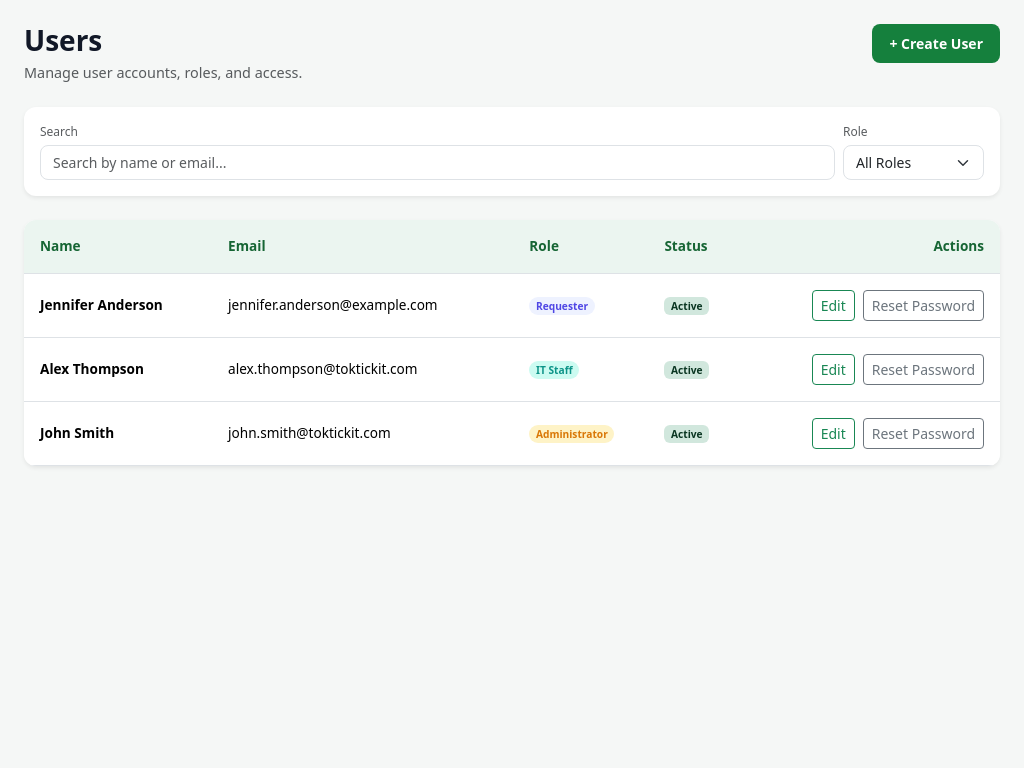
Test case: UserManagement UI Tests (Lab 3 - Issue 6) › Create User flow submits the form and surfaces a duplicate-email error
Click the button "+ Create User". click: (936, 44)
box: [872, 24, 1000, 63]
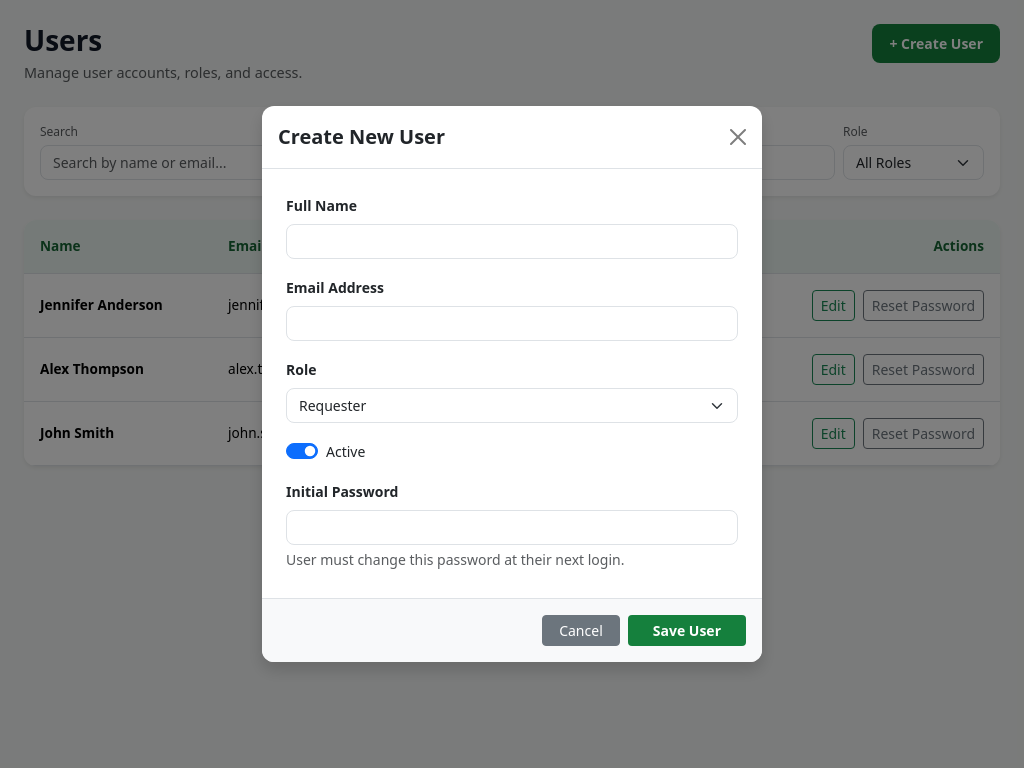
Type "New Person" into the field labelled "Full Name". click: (512, 242)
box: [286, 224, 738, 259]
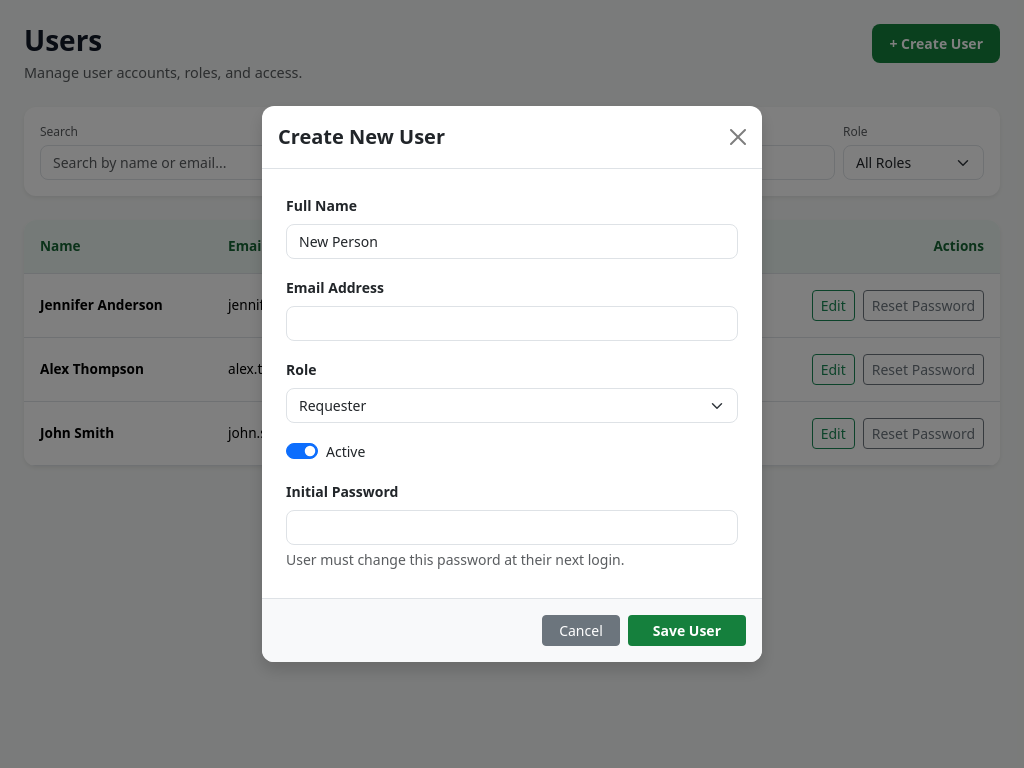
Type "alex.thompson@toktickit.com" into the field labelled "Email Address". click: (512, 324)
box: [286, 306, 738, 341]
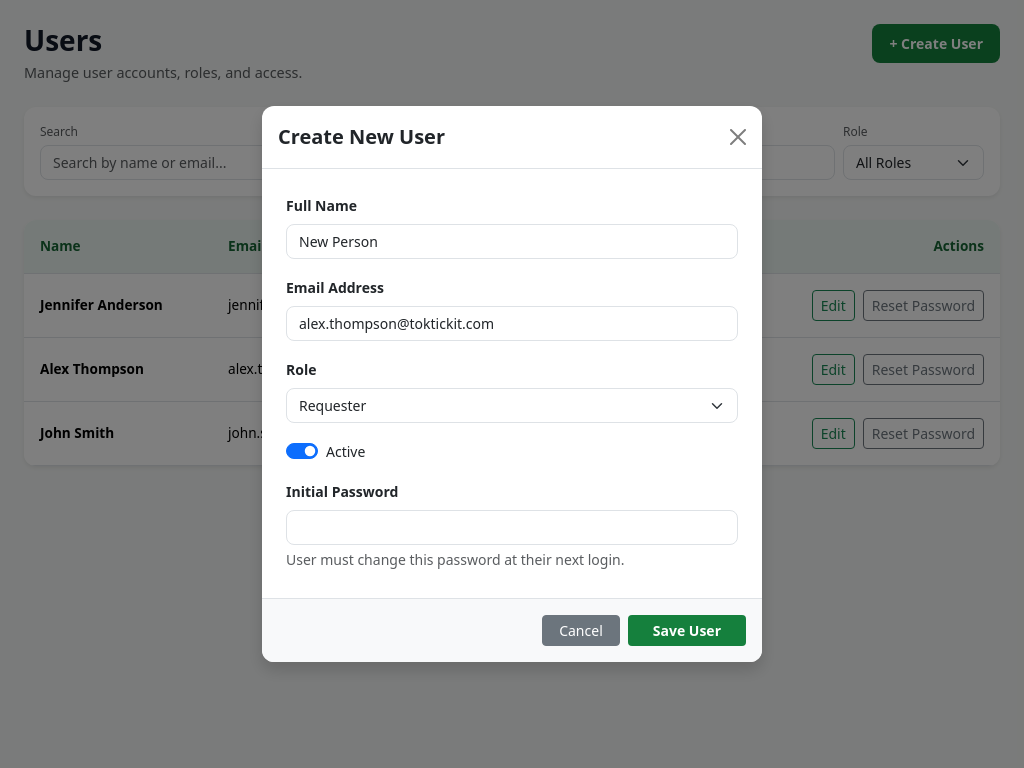
Type "InitialPassword123!" into the field labelled "Initial Password". click: (512, 528)
box: [286, 510, 738, 545]
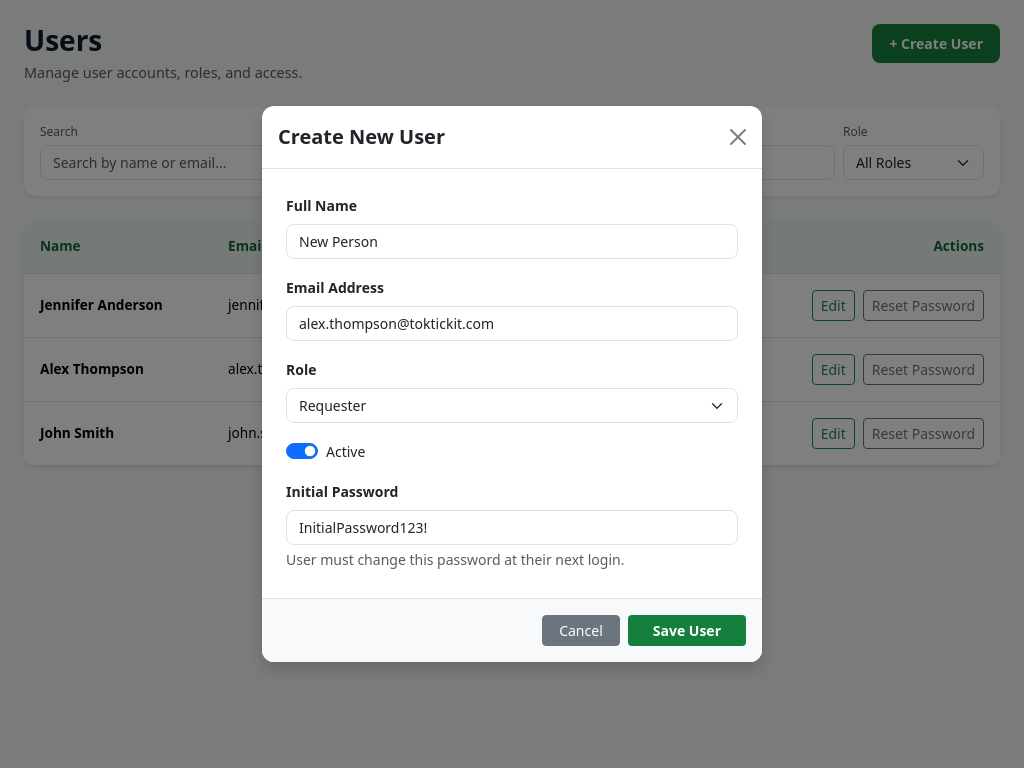
Click the button "Save User". click: (687, 630)
box: [628, 615, 746, 646]
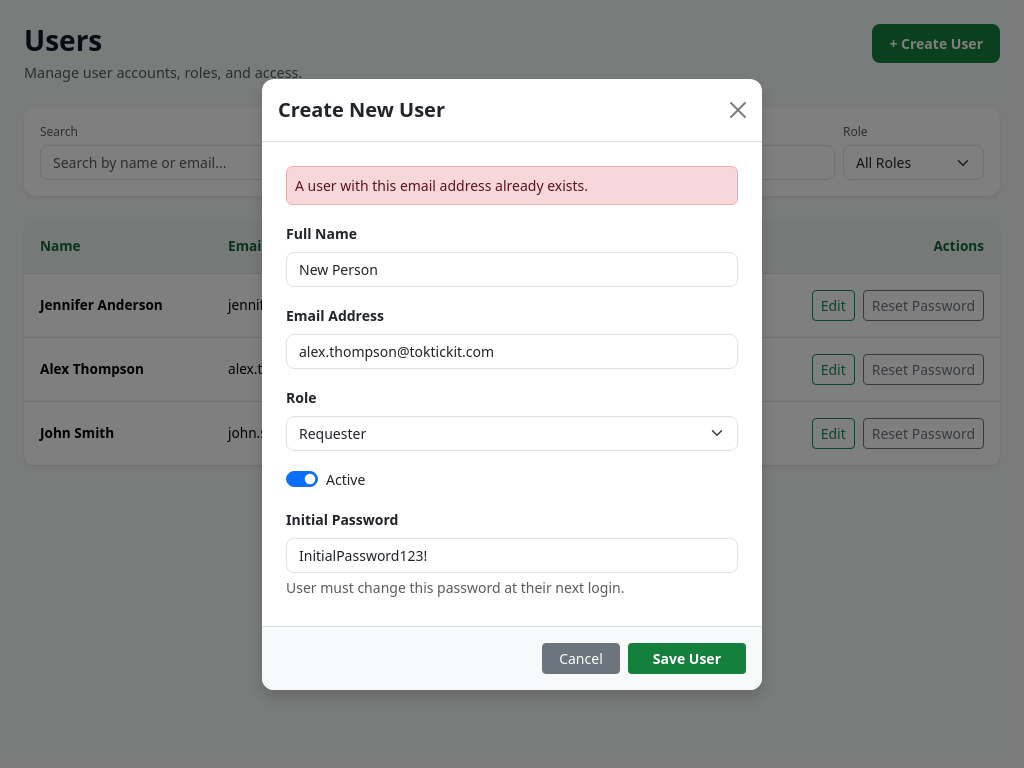
Expected: the text "A user with this email address already exists." is shown, [286, 166, 738, 204]
